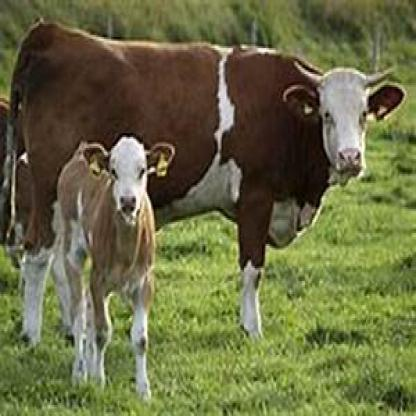cow: (6, 35, 388, 338), (58, 129, 165, 405)
